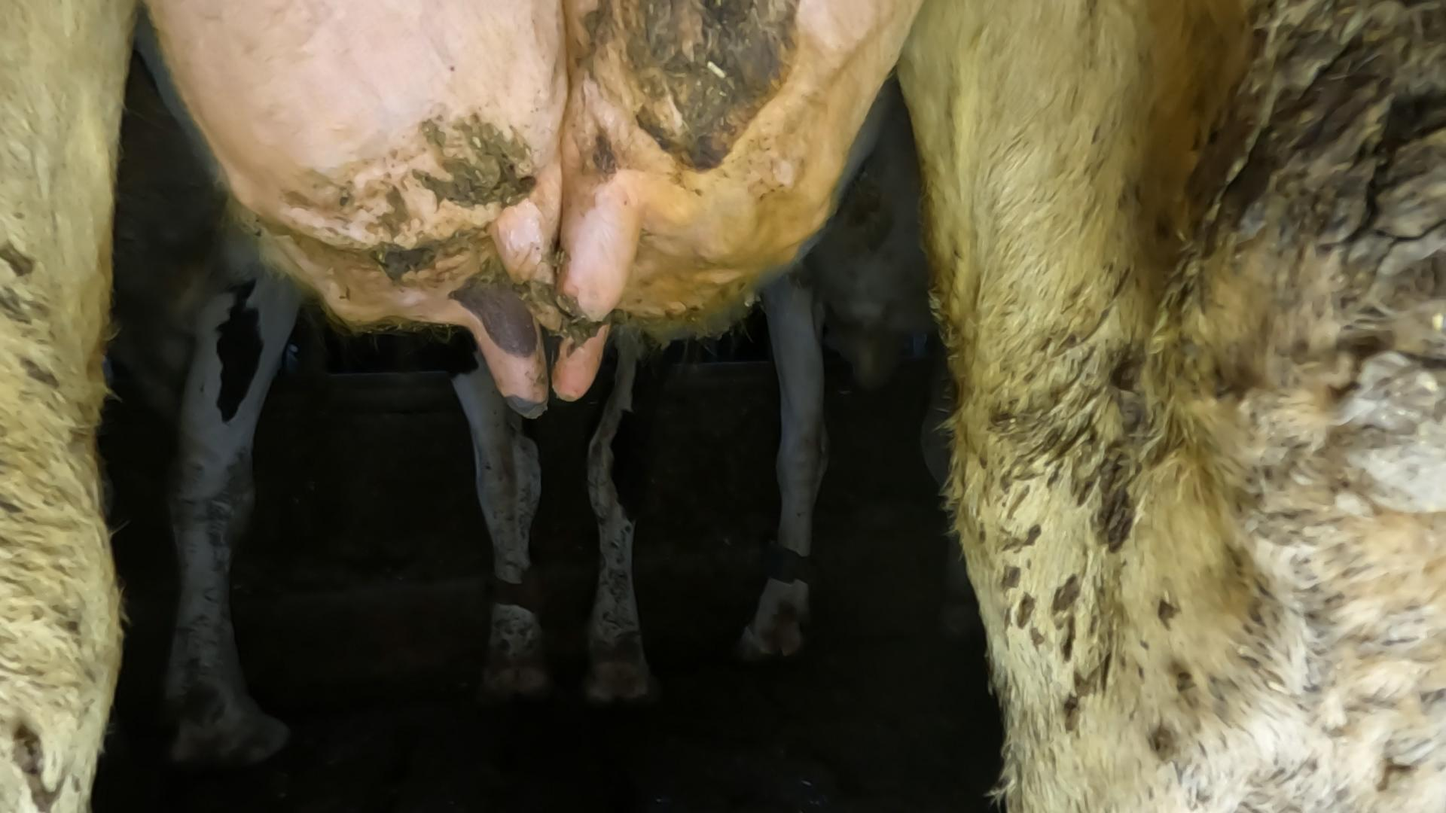Zitze: (554, 174, 663, 326), (458, 276, 558, 422), (488, 189, 579, 343), (555, 291, 618, 413)
